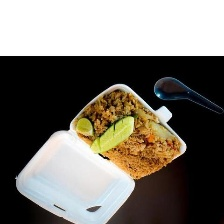foam_box: (9, 79, 191, 224)
